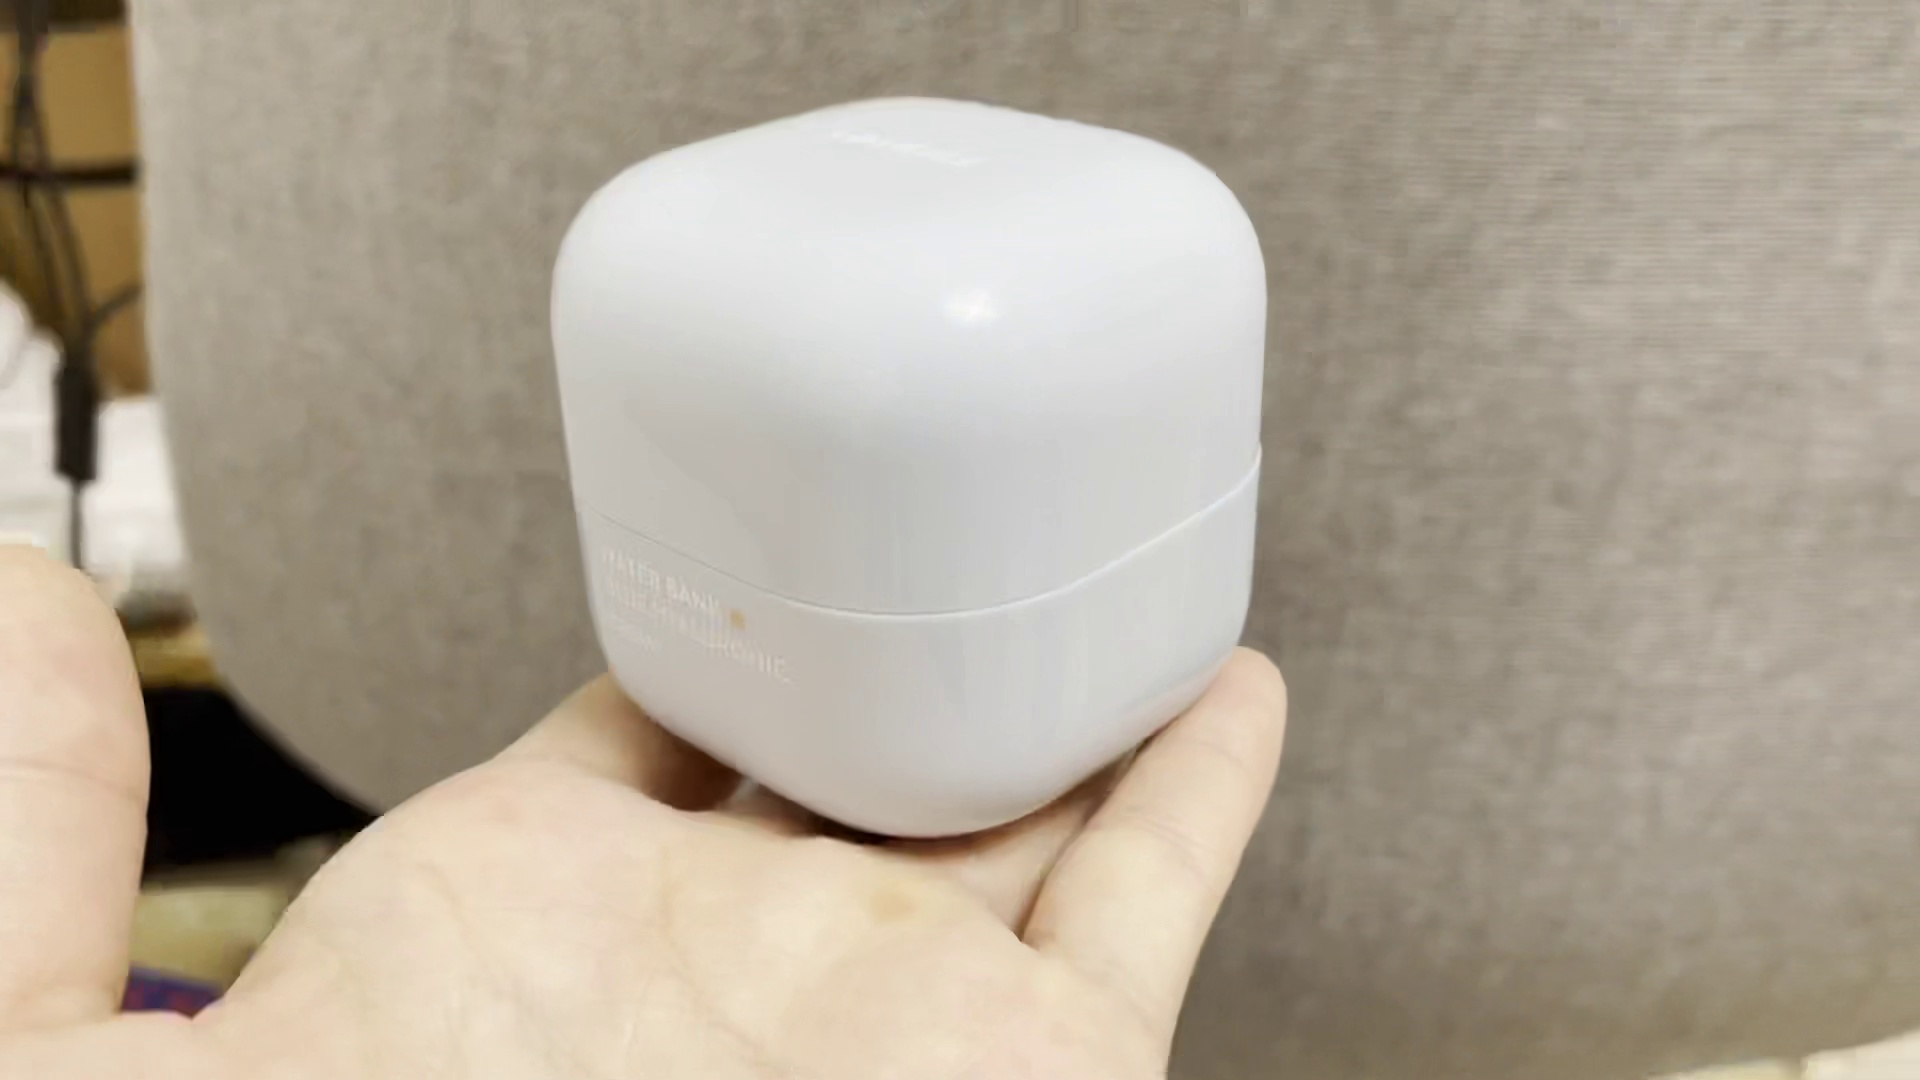cream: (554, 102, 1265, 829)
